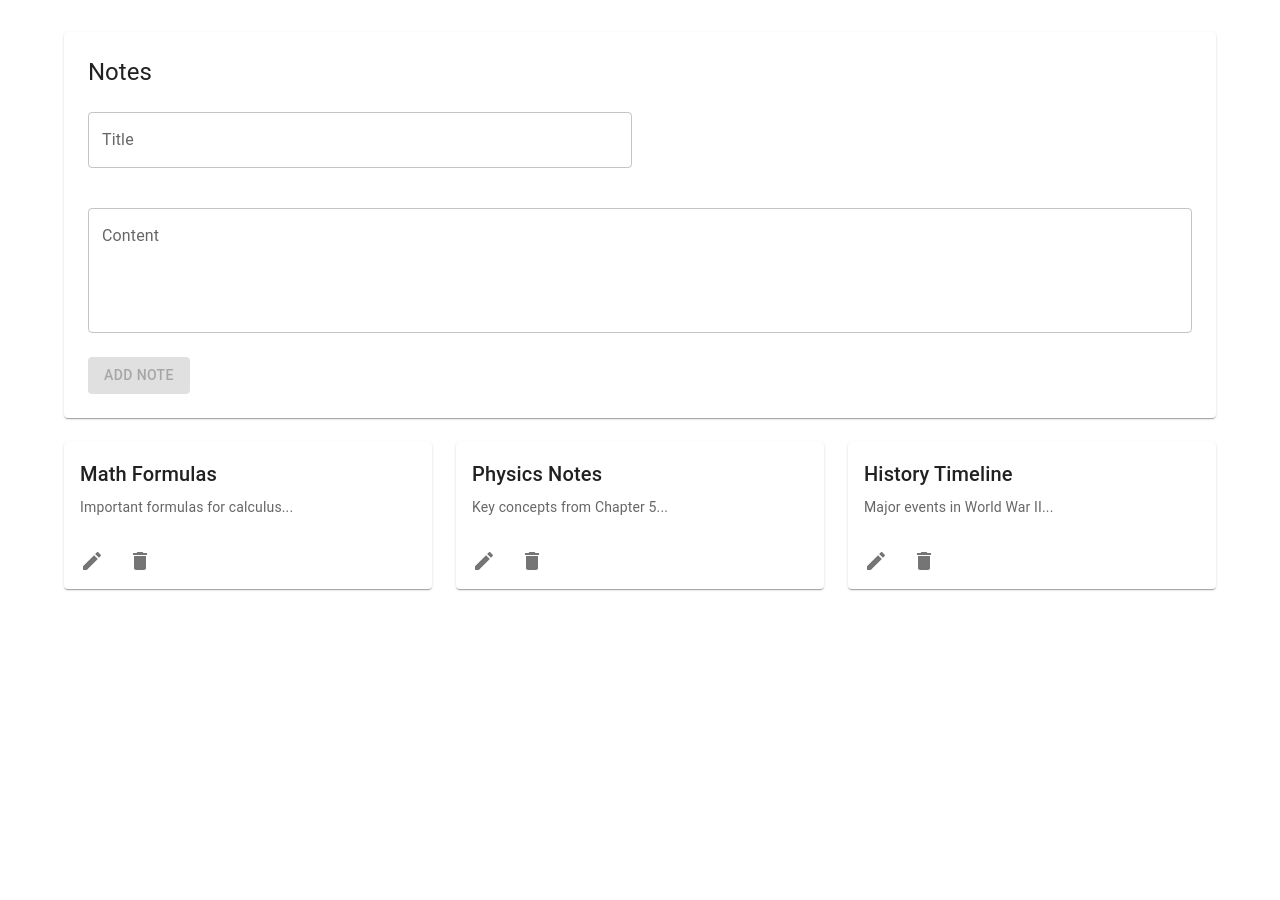
it: Notes Component › adds a new note
Type "New Test Note" into the field labelled "Title". click: (360, 140)
box: [88, 112, 632, 168]
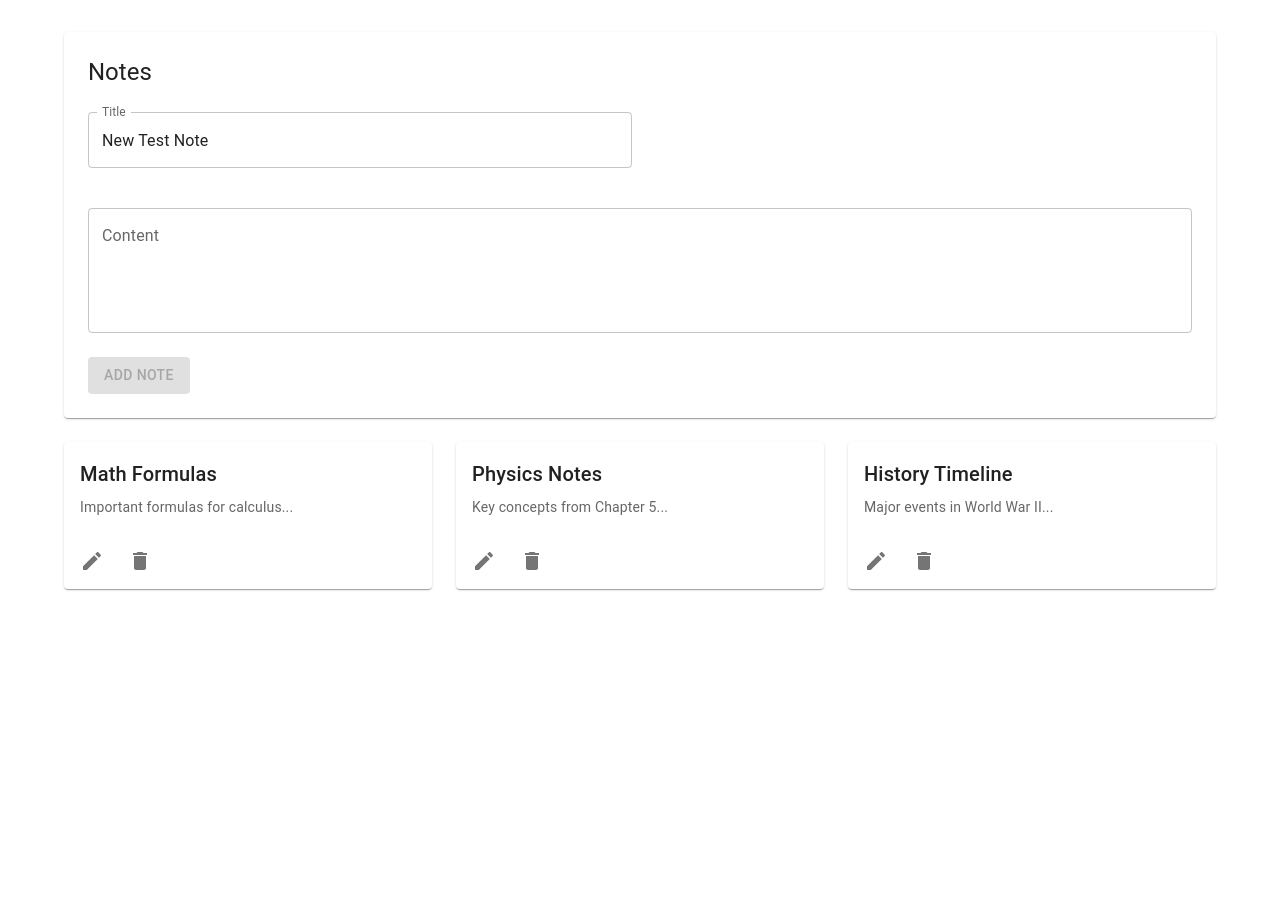
Type "This is a test note content" into the text box labelled "Content". click: (640, 271)
box: [102, 225, 1178, 317]
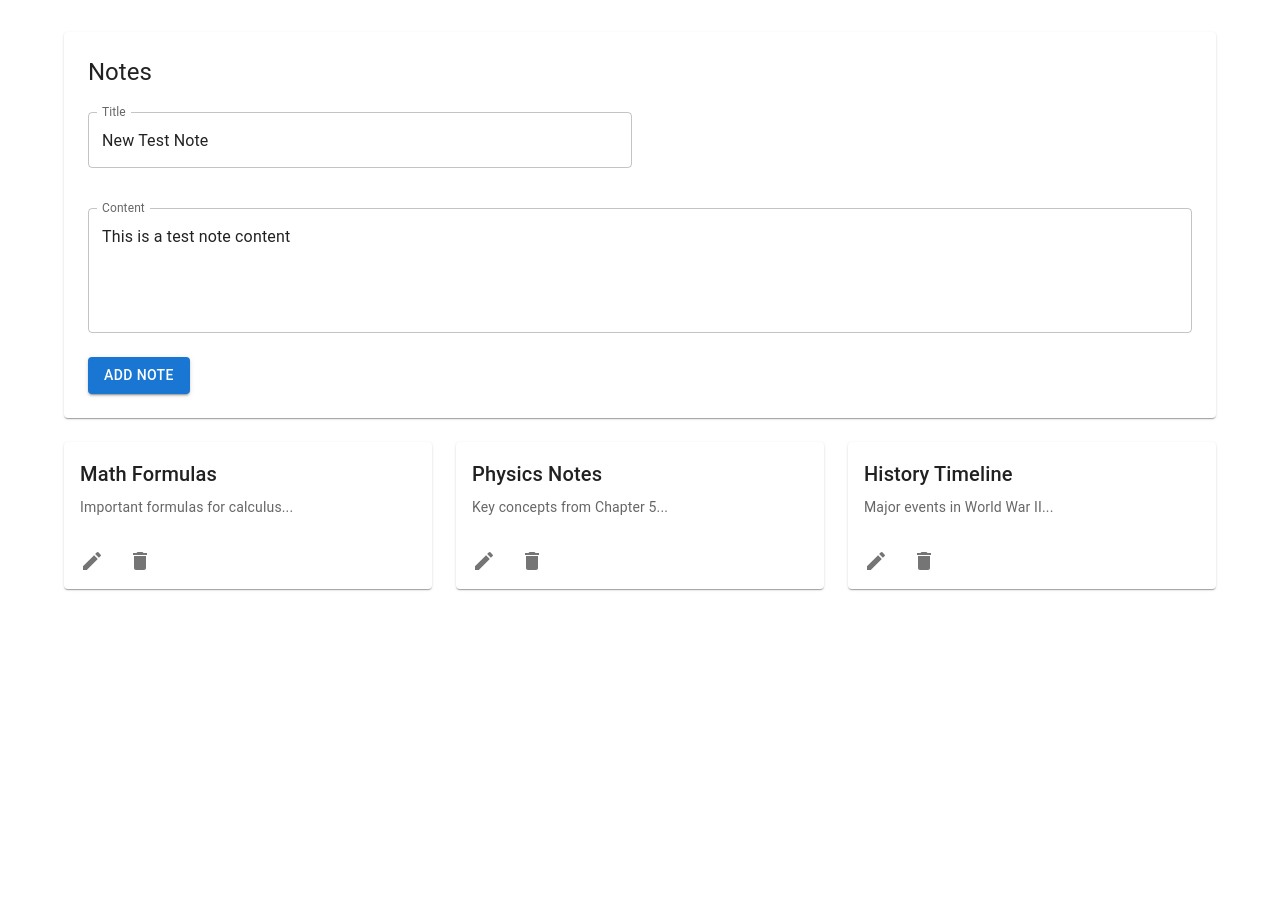
Check: the button "Add Note" is enabled
Note: Click add button
Click the button "Add Note". click: (139, 376)
box: [88, 357, 190, 394]
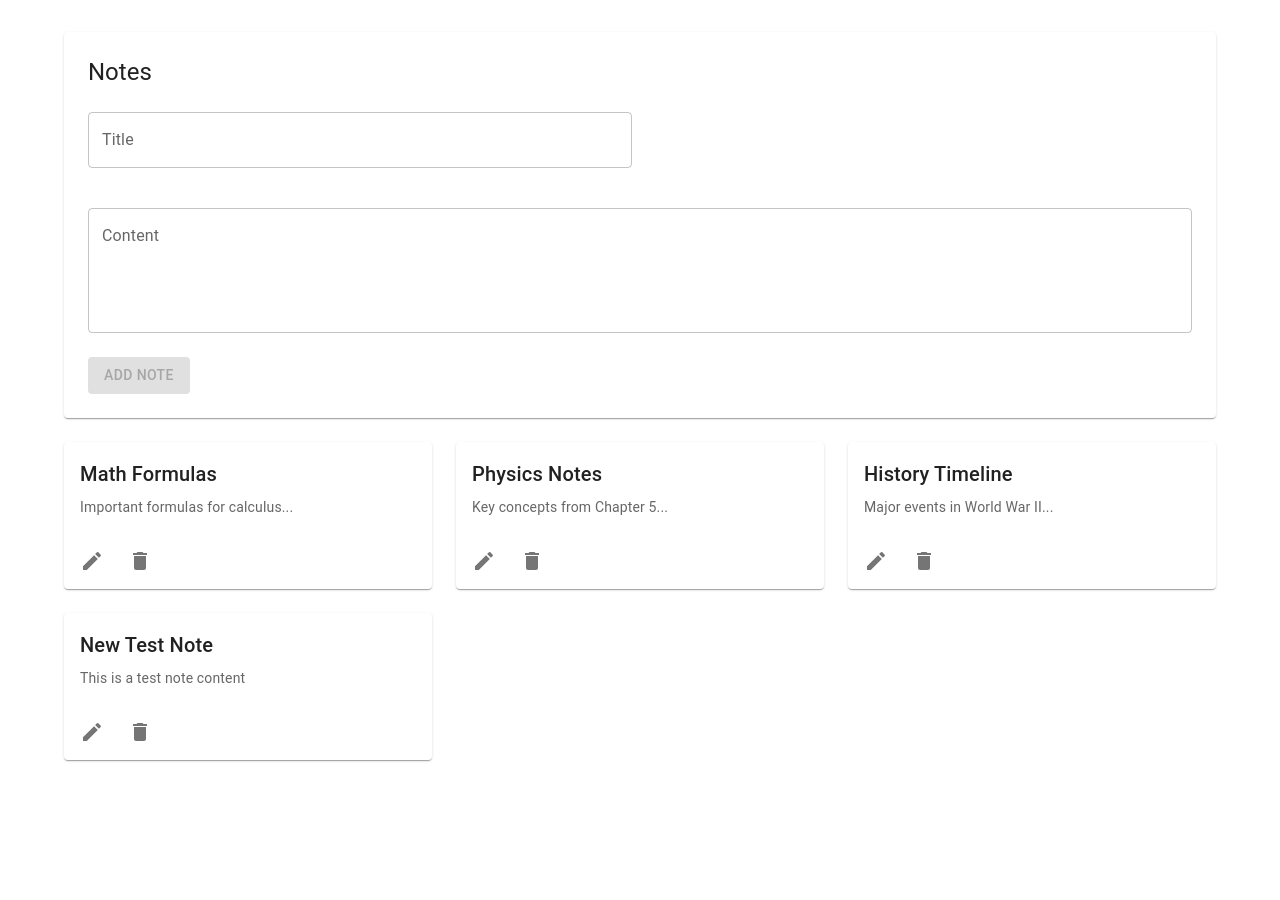
Check: the heading "New Test Note" is shown, box [80, 633, 213, 657]
Check: the text "This is a test note content" is shown, box [80, 670, 245, 686]
Check: the field labelled "Title" is empty, box [88, 112, 632, 168]
